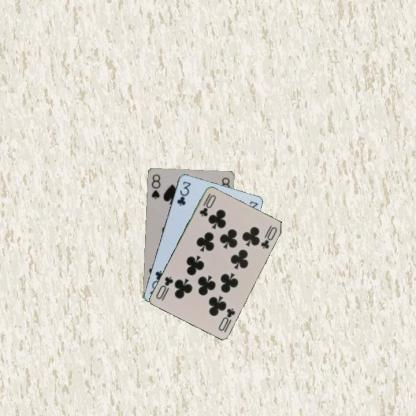10c: (196, 190, 218, 218), (216, 305, 236, 332)
3c: (174, 178, 192, 207)
8s: (148, 172, 162, 200)
